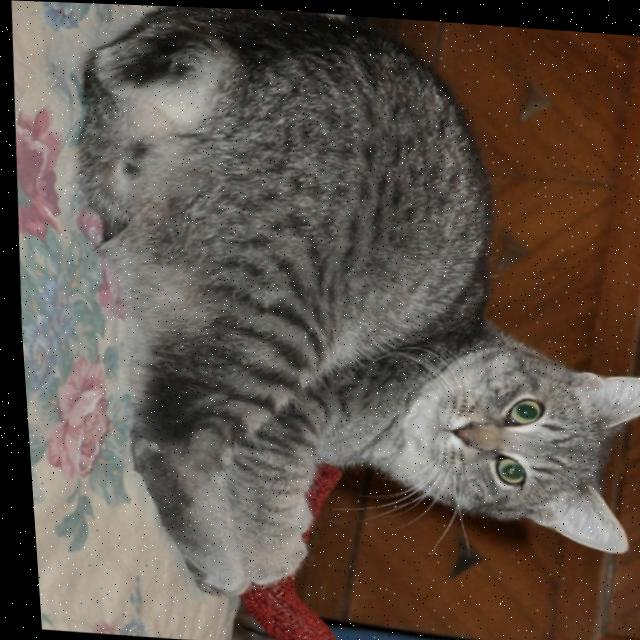American Bobtail: (46, 1, 640, 626)
